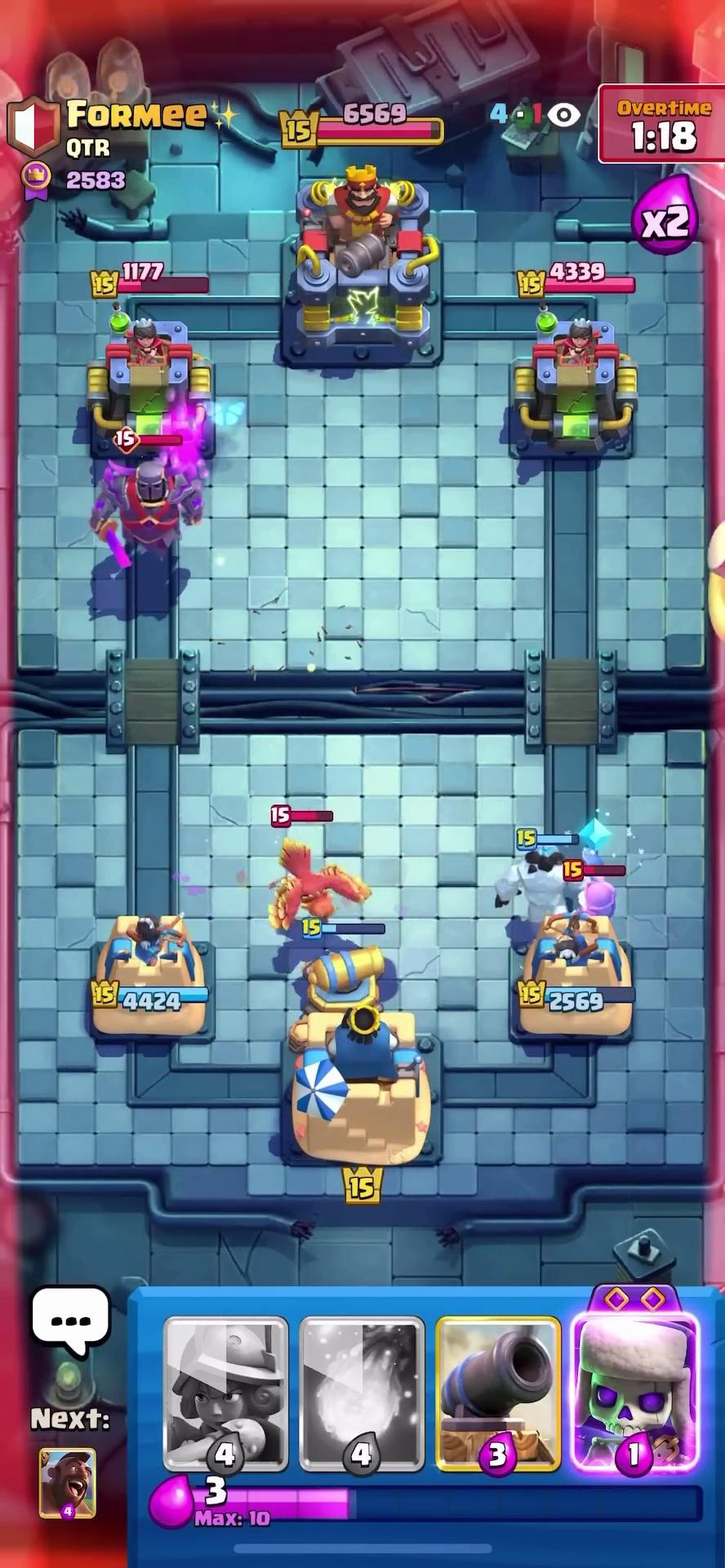cannon: (284, 923, 392, 1023)
ice_golem: (498, 837, 590, 921)
